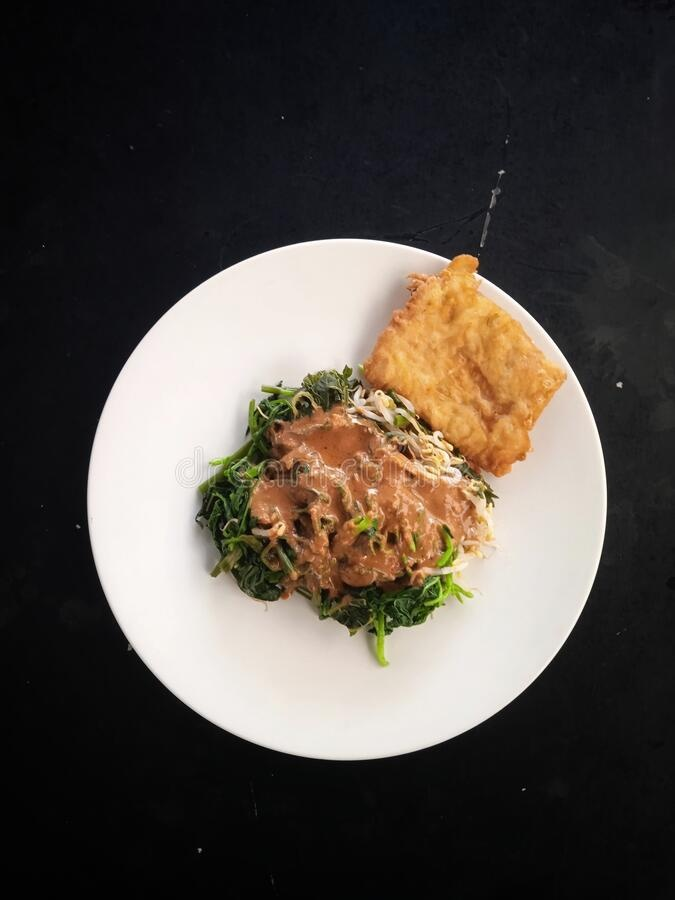pecel: (152, 308, 549, 697)
